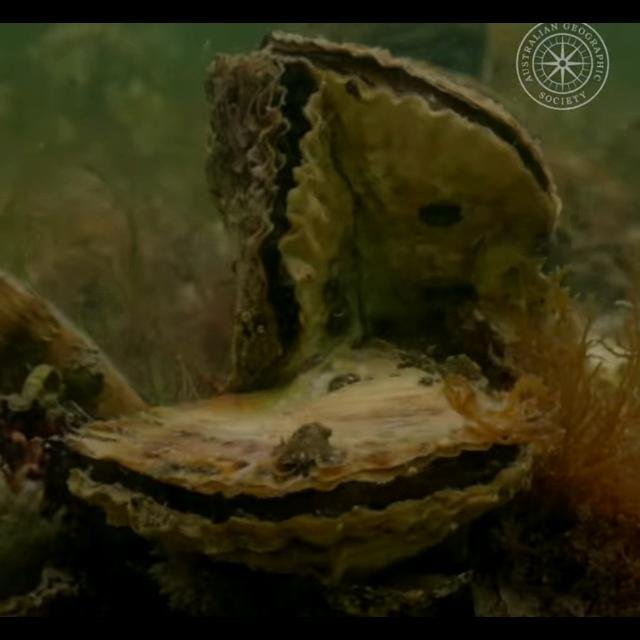Oyster-Closed: (0, 268, 152, 438)
Oyster-Open: (61, 337, 536, 587), (260, 28, 562, 350), (202, 51, 356, 397)
